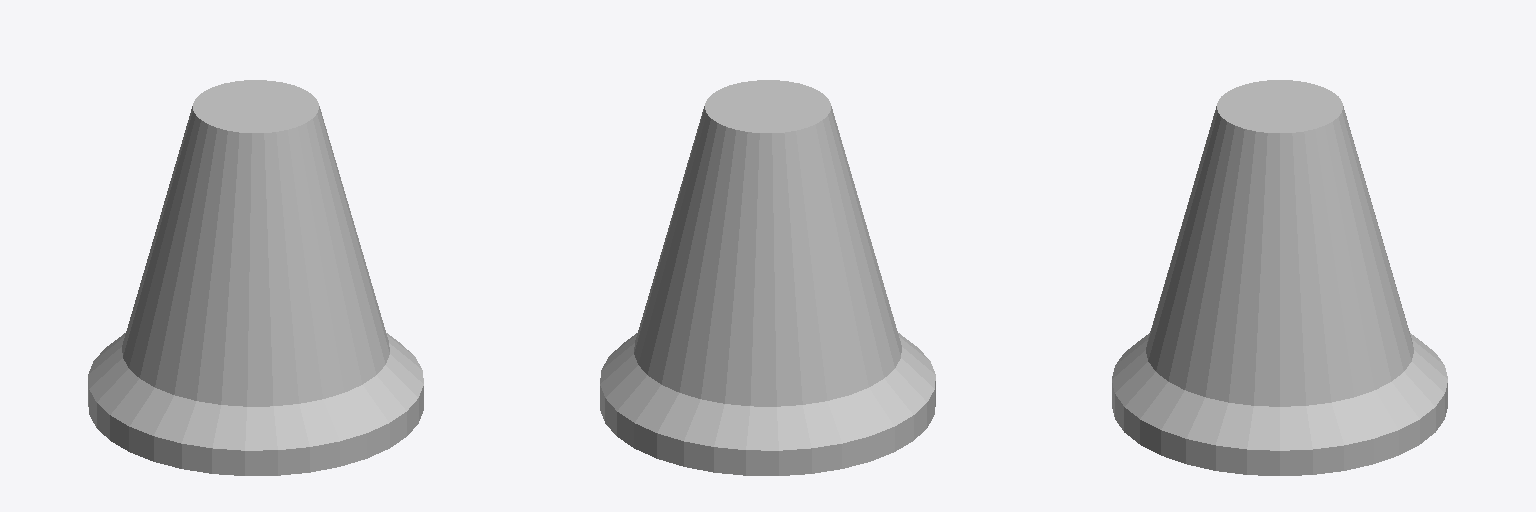
File: sirena.obj
3 views of the same model, side by side, from view 1: azimuth 30°, elevation 25°; view 2: azimuth 150°, elevation 25°; view 3: azimuth 270°, elevation 25° (orthographic).
Parts seen in each view (by area): view 1: Cylinder; view 2: Cylinder; view 3: Cylinder.
Boxes of the visible parts, x1,y1,x2,y2 form: Cylinder: [88, 80, 423, 475]; Cylinder: [600, 80, 935, 475]; Cylinder: [1112, 80, 1447, 475].
Size of the model in its own units: 2.51 by 2.45 by 2.51.